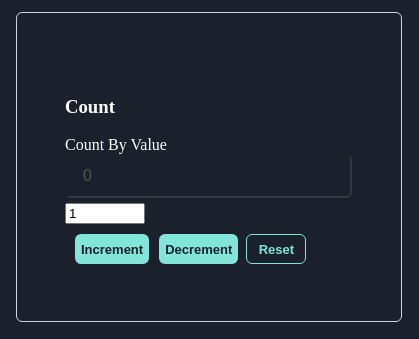
Scenario: reset button should reset the counter value to 0
The image size is (419, 339).
Click the button "Increment" at point(112, 249), box 75,234 -> 149,264
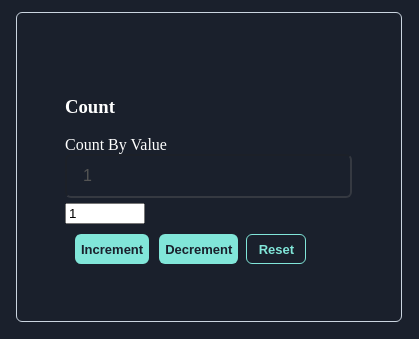
Click the button "Increment" at point(112, 249), box 75,234 -> 149,264
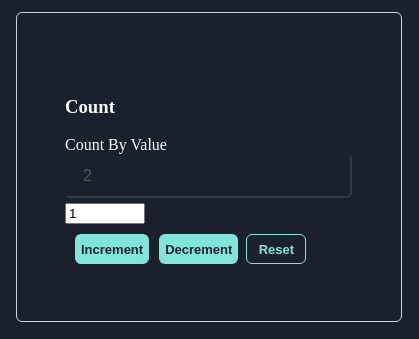
Click the button "Reset" at point(276, 249), box 246,234 -> 306,264
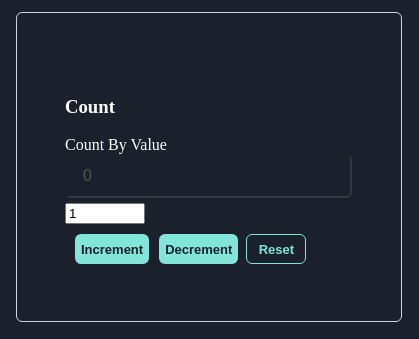
Check: the field showing "0" is shown, box 65,154 -> 352,198
